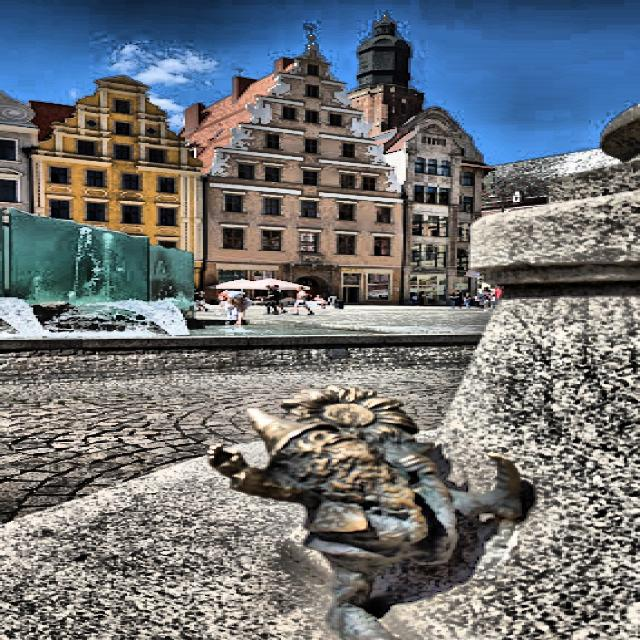Zyczliwek: (209, 387, 531, 639)
